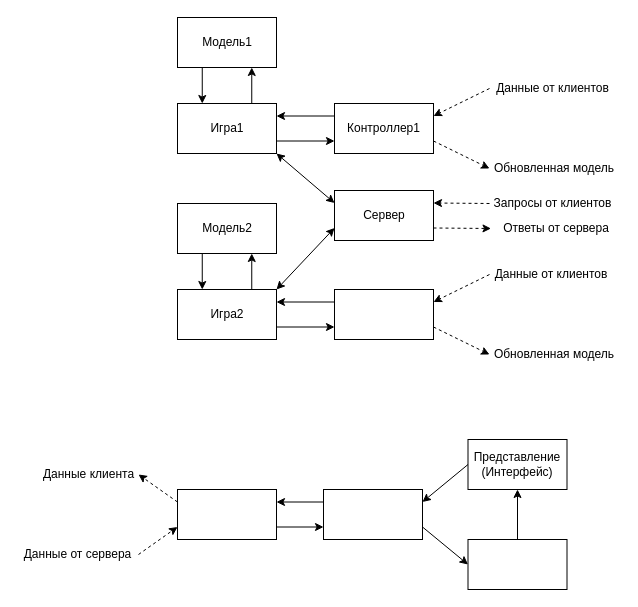
This 638x607 diagram has some shape labels left out. The centre of each missing label's shape, as x and y in pixels:
Игра: point 372,514
Контроллер: point 226,514
Контроллер2: point 384,314
Модель: point 517,564
